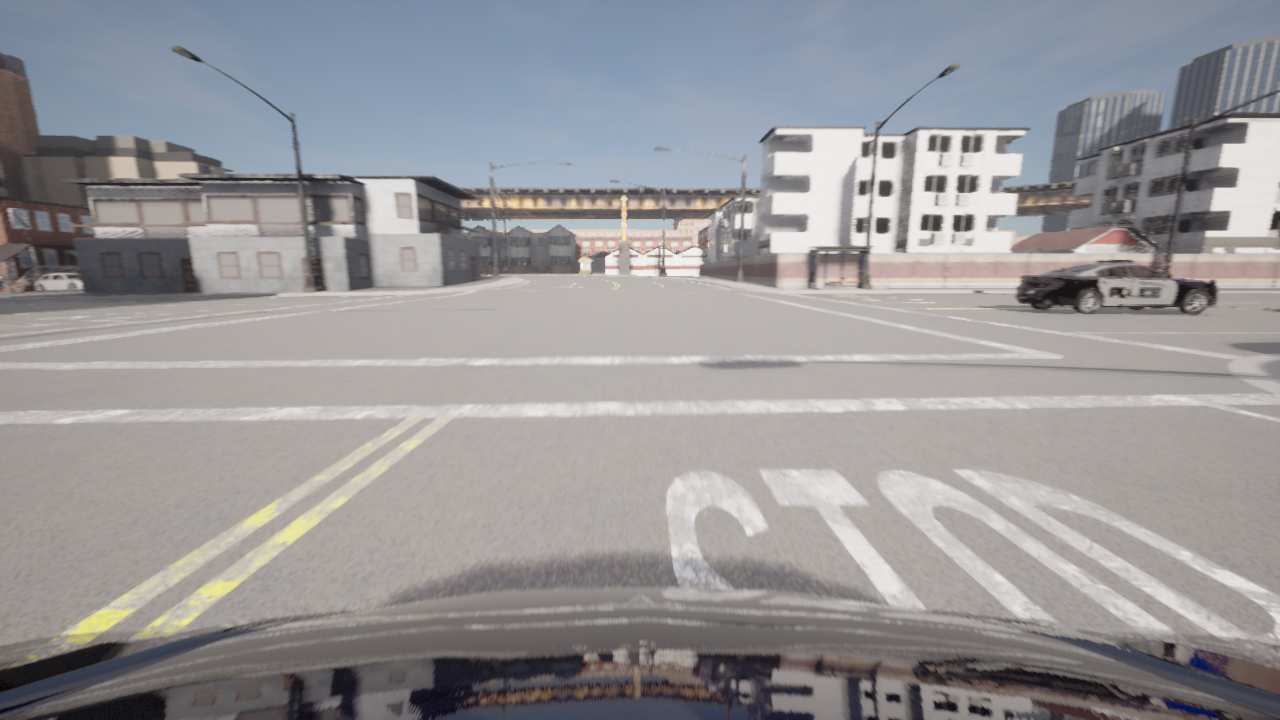cyclist: (0, 588, 1279, 719), (1016, 258, 1217, 314), (35, 274, 83, 291), (1270, 309, 1279, 311)
